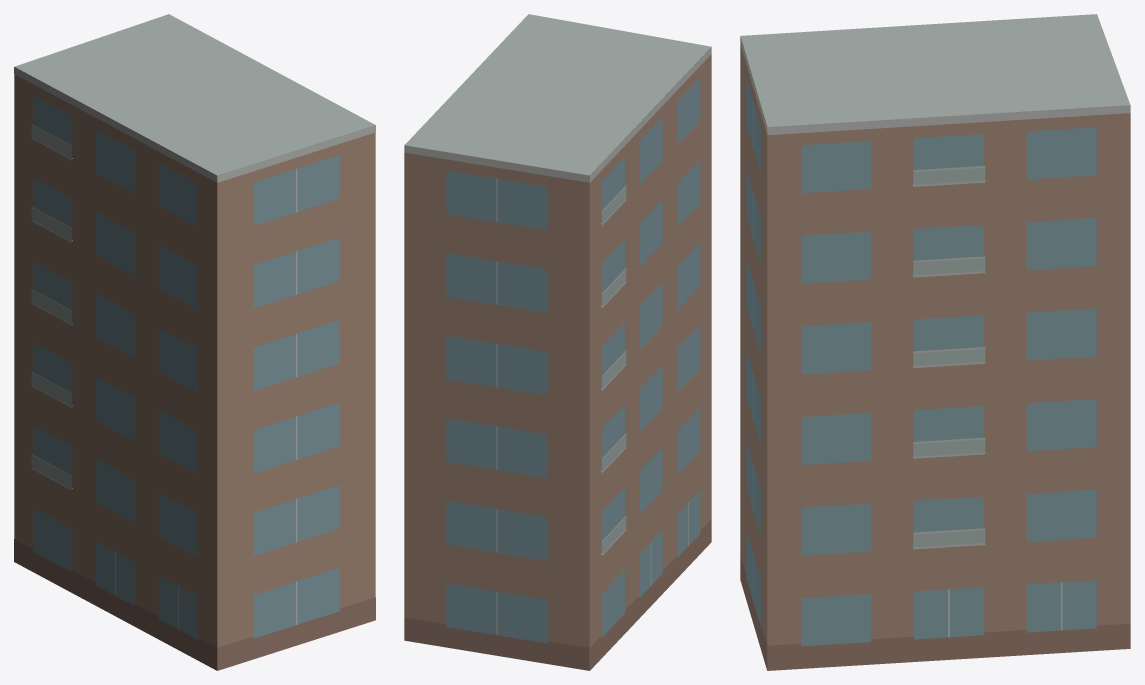
The model's file is survey-upis-33042846.glb.
3 views of the same model, side by side, from view 1: azimuth 30°, elevation 25°; view 2: azimuth 150°, elevation 25°; view 3: azimuth 270°, elevation 25° (orthographic). The views are drawn at different scales.
Parts seen in each view (by area): view 1: survey-upis-33042846.tmp; view 2: survey-upis-33042846.tmp; view 3: survey-upis-33042846.tmp.
Boxes of the visible parts, x1,y1,x2,y2 form: survey-upis-33042846.tmp: (14, 14, 375, 670); survey-upis-33042846.tmp: (404, 14, 711, 670); survey-upis-33042846.tmp: (740, 14, 1130, 670).
Bounding box in the file's own units: 7.43 × 16.6 × 10.81.
